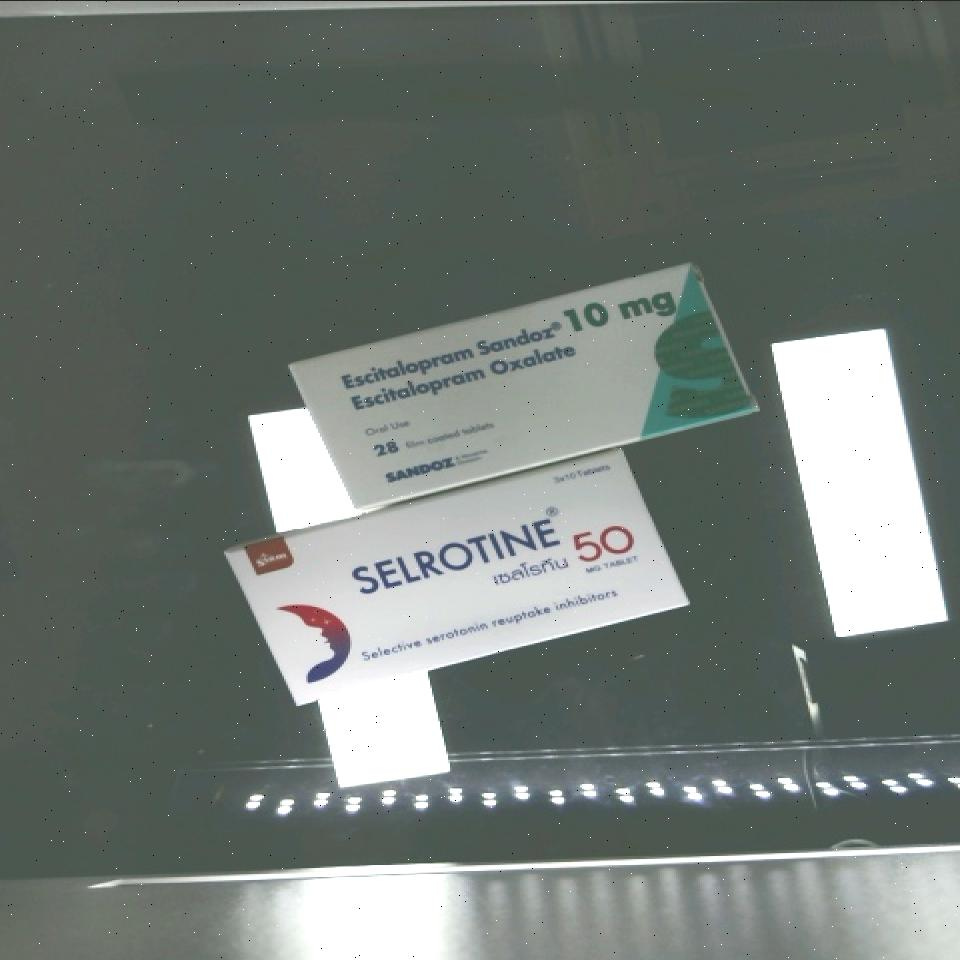medicine_box: (224, 440, 689, 715), (288, 253, 760, 514)
medicine_label_obb: (312, 264, 705, 429), (327, 483, 656, 627)
